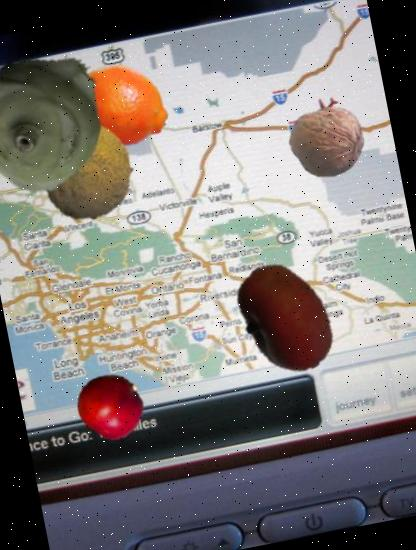Cantaloupe: (30, 114, 146, 228)
Kohlrabi: (0, 36, 125, 199)
Nectarine: (218, 250, 353, 386), (71, 365, 151, 445)
Tangelo: (65, 50, 178, 163)
Walnut: (282, 98, 372, 186)
